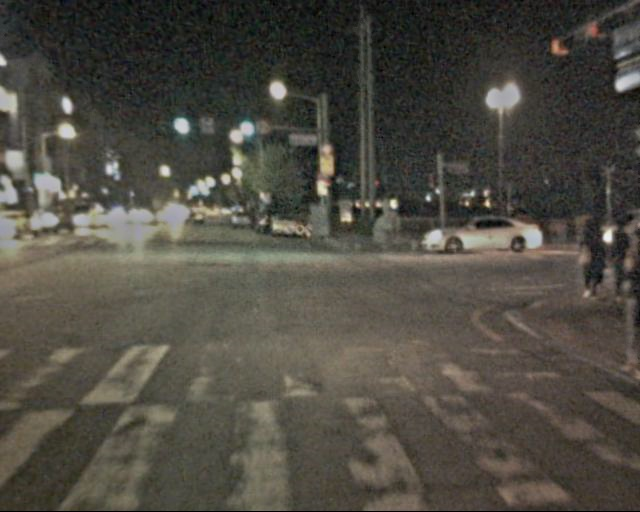person: (606, 247, 640, 380), (571, 215, 610, 296), (598, 218, 635, 294)
